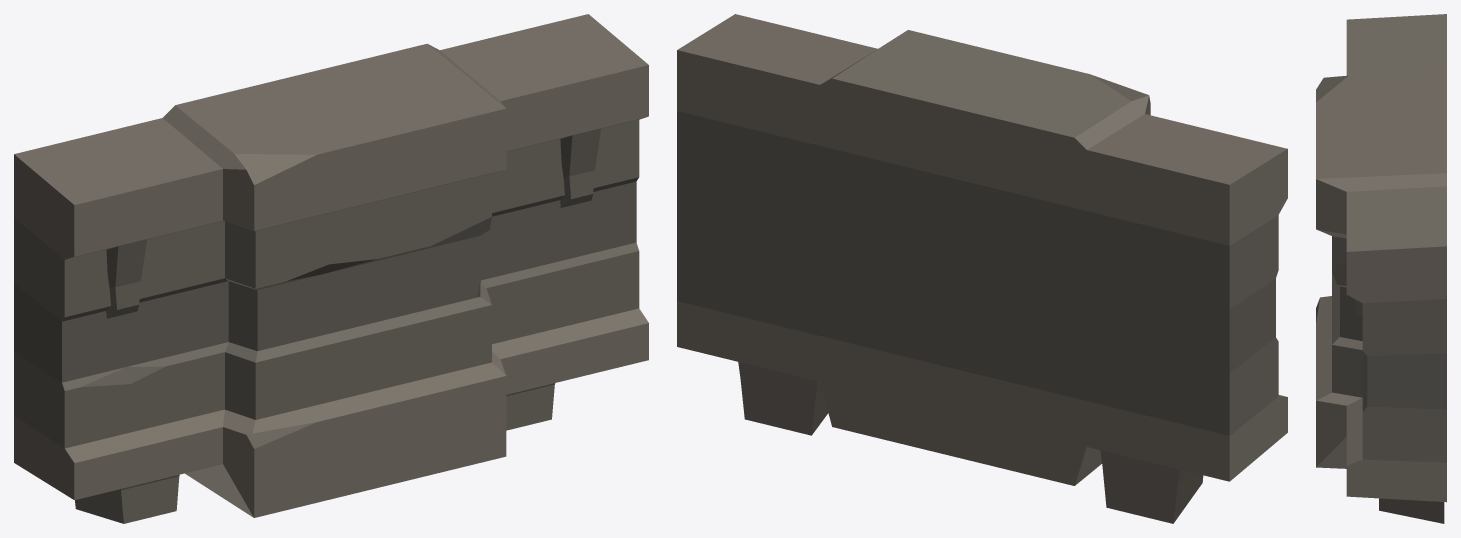
Rendered from SM_Bld_Trim_02.fbx.
3 renders of one model, left to right at view 1: azimuth 30°, elevation 25°; view 2: azimuth 150°, elevation 25°; view 3: azimuth 270°, elevation 25°, orthographic. The views are drawn at different scales.
Visible parts, largest first — view 1: SM_Bld_Trim_02; view 2: SM_Bld_Trim_02; view 3: SM_Bld_Trim_02.
Boxes of the visible parts, <box> form: SM_Bld_Trim_02: <box>14,14,648,523</box>; SM_Bld_Trim_02: <box>677,14,1287,523</box>; SM_Bld_Trim_02: <box>1316,14,1446,523</box>.
Size of the model in its own units: 250 by 157 by 59.53.
